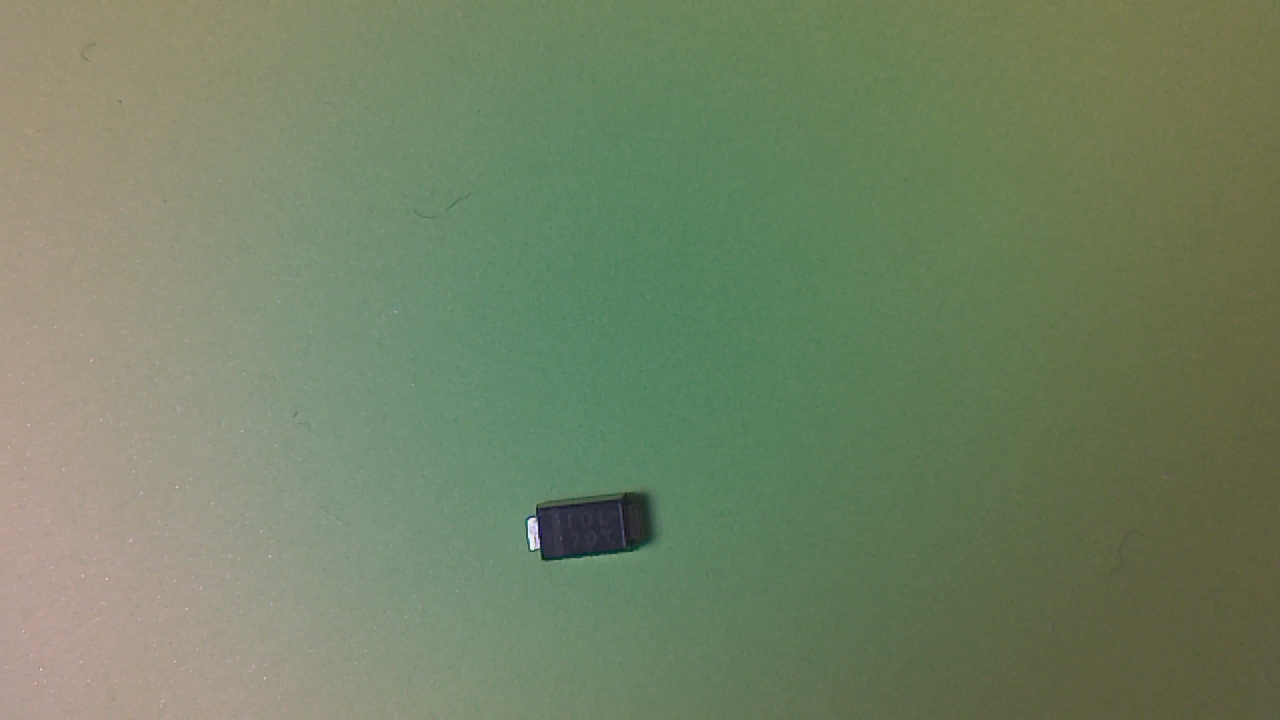Diode: (531, 494, 650, 569)
